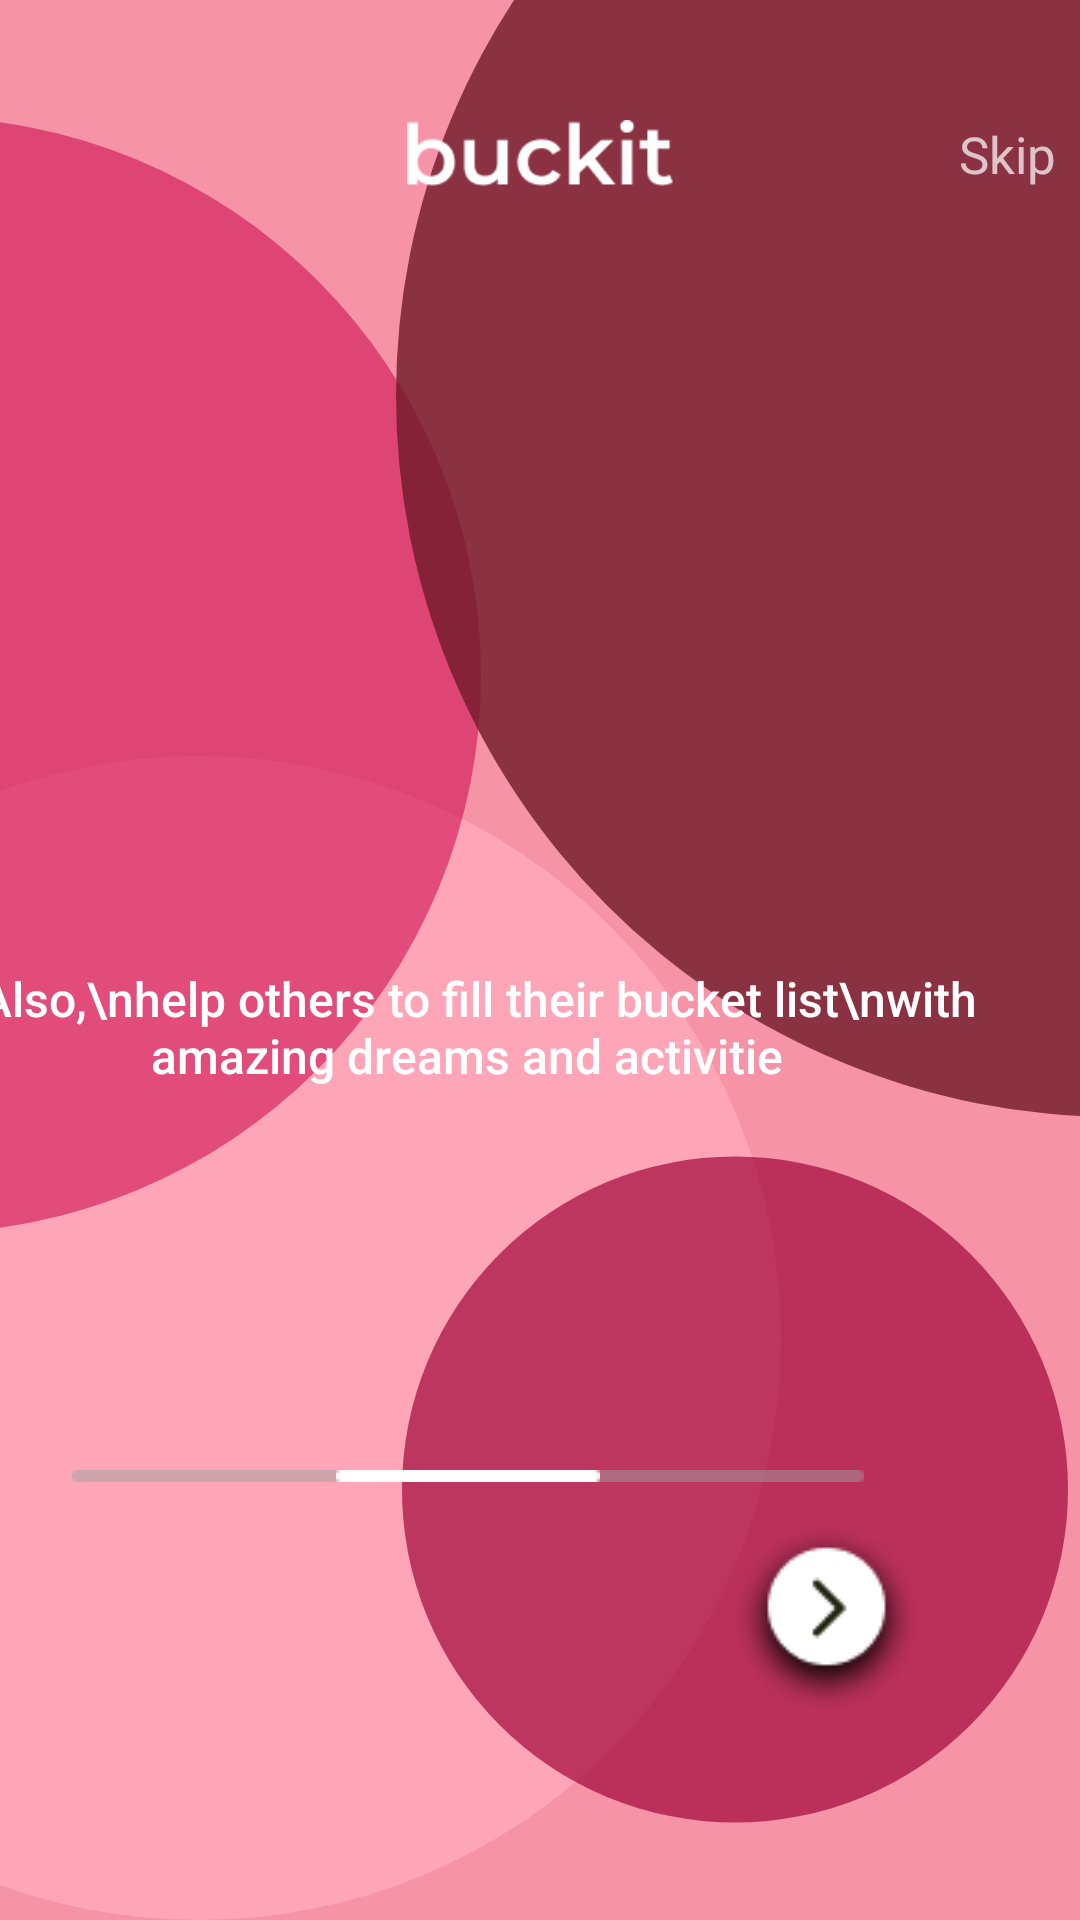

Icon bounding boxes for this 1080 × 1920 phone screenshot, format (x1, y1, x2, y2):
nextbutton: (749, 1541, 904, 1696)
